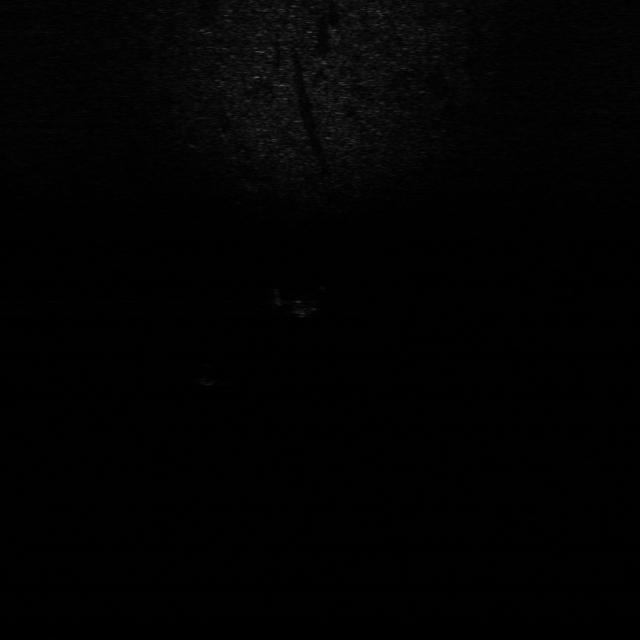ball: (194, 359, 223, 387)
human body: (272, 285, 329, 320)
